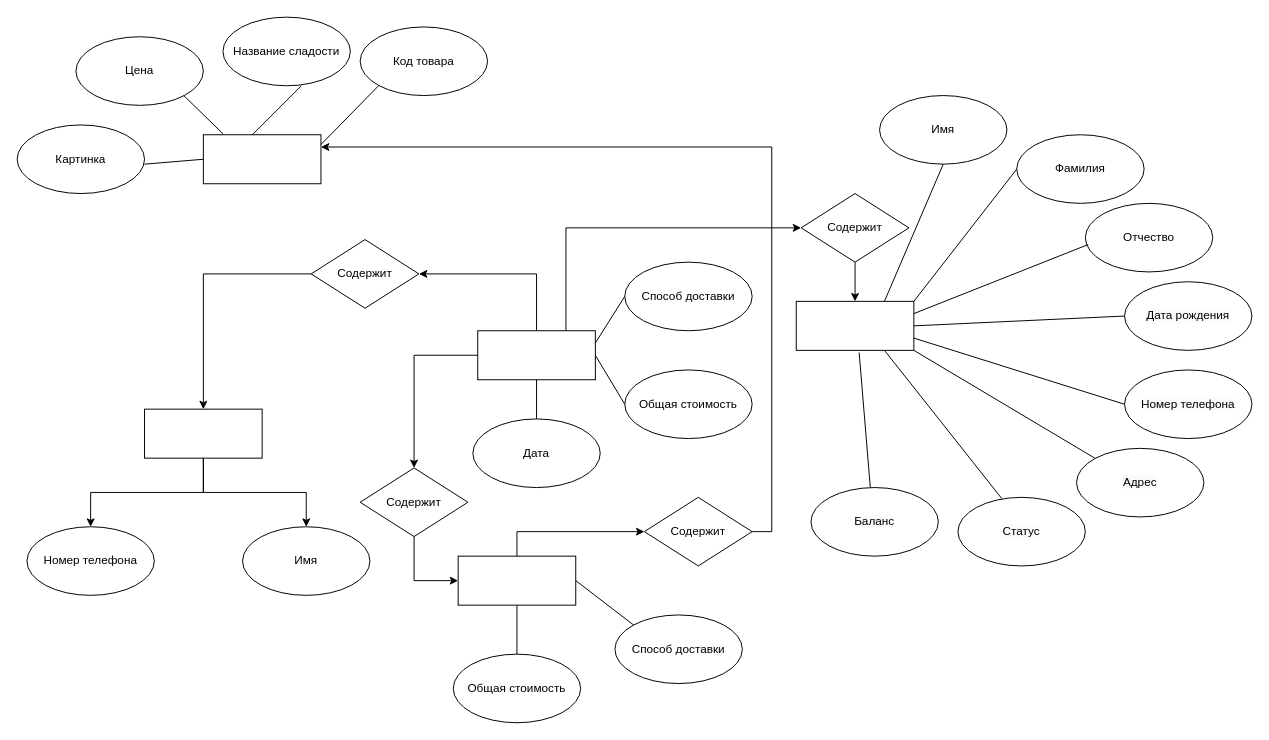
This 1269x740 diagram has some shape labels left out. Here are the shapes that lost their labels. From the top down, the box of each, then its label:
(202, 134, 321, 184): Товар
(795, 300, 914, 350): Курьер
(477, 330, 595, 380): Заказ
(144, 408, 262, 458): Пользователь
(457, 555, 576, 605): Корзина
